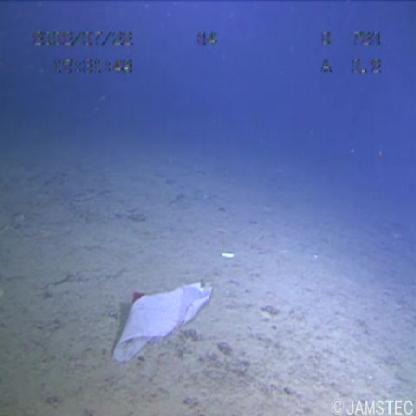Rác: (90, 269, 238, 361)
